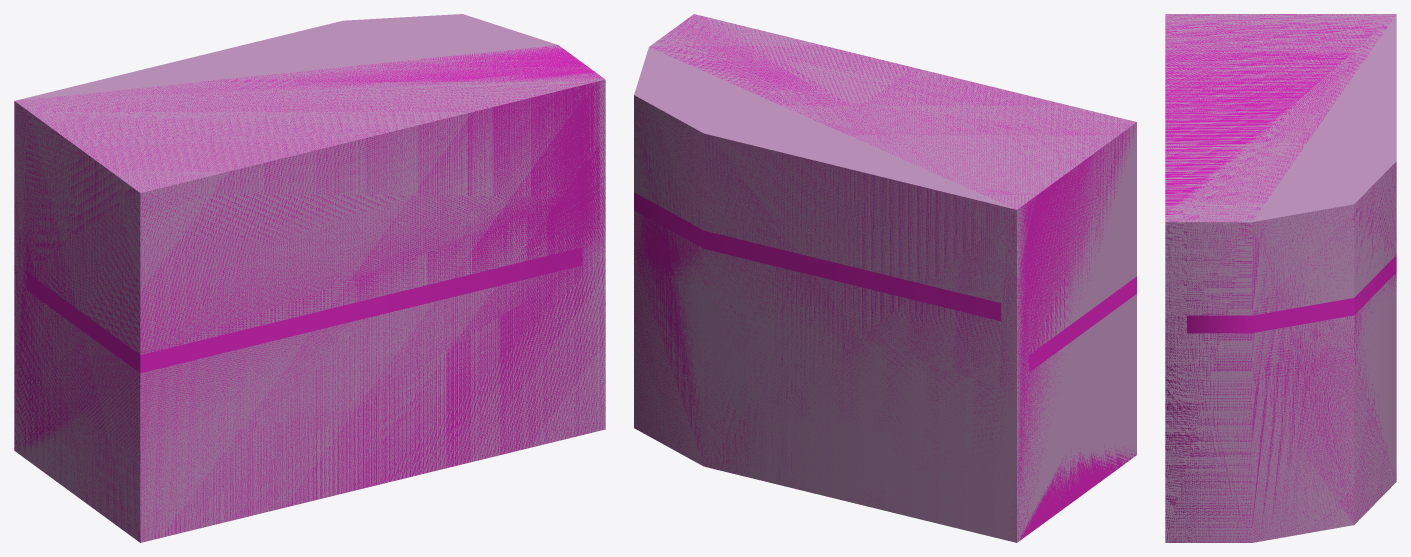
Rendered from building9.fbx.
The picture shows the model from 3 angles, left to right: view 1: azimuth 30°, elevation 25°; view 2: azimuth 150°, elevation 25°; view 3: azimuth 270°, elevation 25°; orthographic projection. The views are drawn at different scales.
Visible parts, largest first — view 1: building9_MESH, building9_COL; view 2: building9_MESH, building9_COL; view 3: building9_MESH, building9_COL.
Part boxes in pixels (left/top/right/bottom): building9_MESH: left=14, top=14, right=605, bottom=542; building9_COL: left=14, top=45, right=605, bottom=542; building9_MESH: left=634, top=14, right=1136, bottom=542; building9_COL: left=634, top=14, right=1136, bottom=542; building9_MESH: left=1165, top=14, right=1396, bottom=542; building9_COL: left=1165, top=14, right=1396, bottom=542.
Size of the model in its own units: 682 by 320 by 490.
